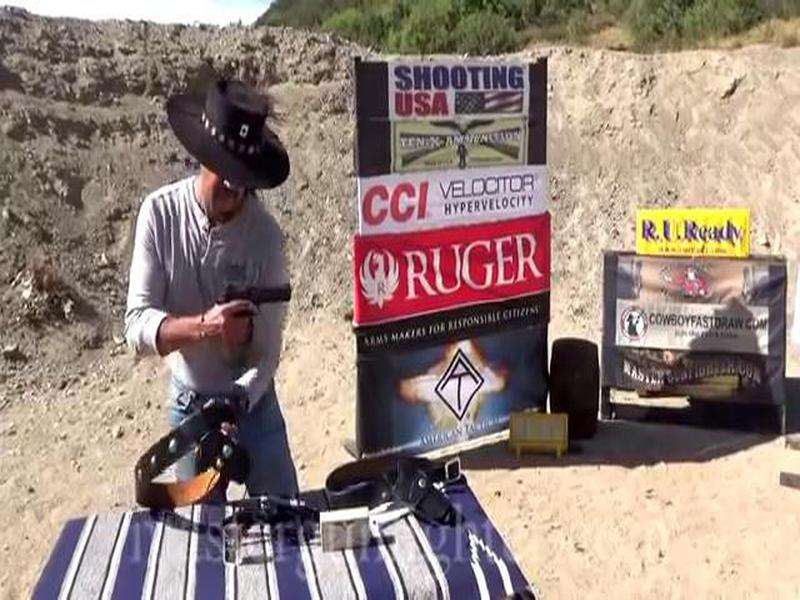Pistola: (209, 279, 306, 355)
